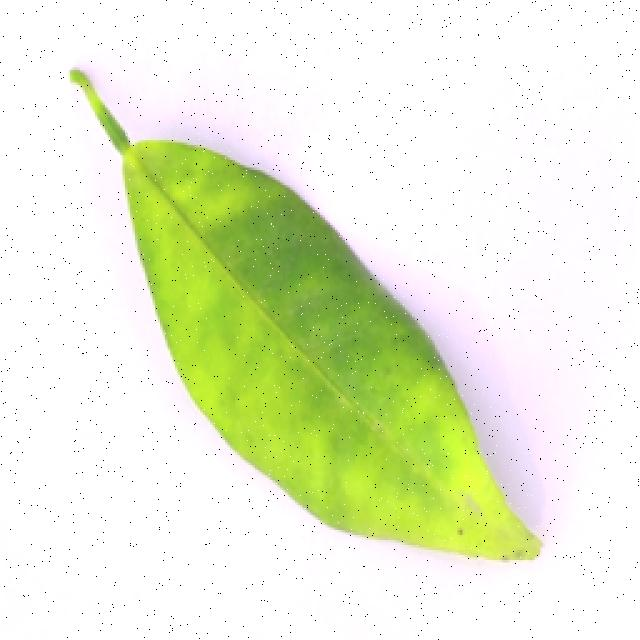greening: (57, 62, 556, 575)
